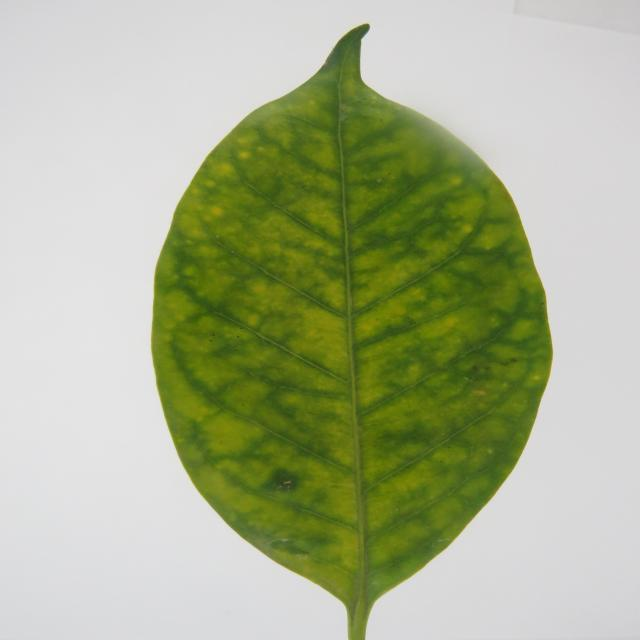DeficienciaNutricional-Magnesio: (152, 25, 552, 640)
